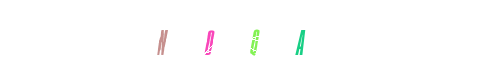0: (205, 0, 285, 80)
A: (260, 0, 340, 80)
N: (144, 0, 224, 80)
Q: (222, 0, 302, 80)
